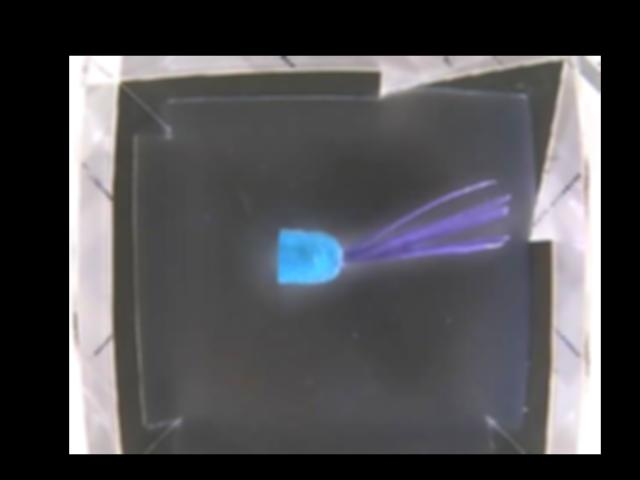Carrot: (276, 226, 398, 286)
